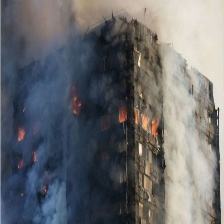fire: (117, 103, 161, 134), (69, 89, 82, 113), (39, 182, 52, 195), (15, 127, 25, 140), (15, 158, 26, 169), (31, 151, 39, 164)
smoke: (1, 1, 98, 224), (160, 4, 215, 224)
